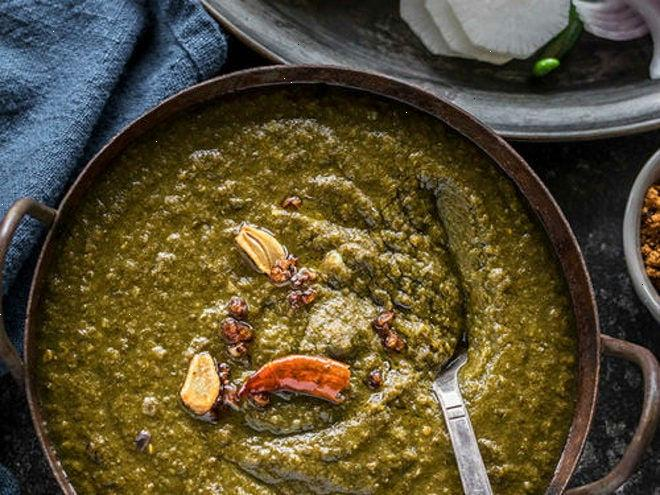saag: (41, 105, 574, 495)
